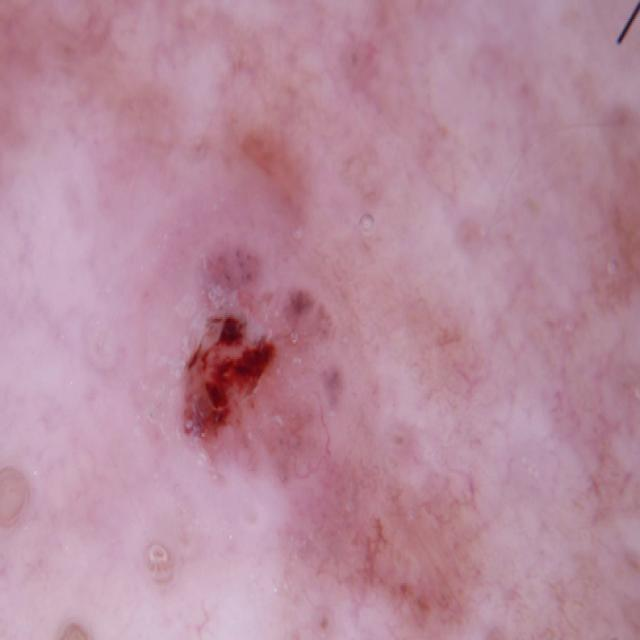Carcinoma: (142, 271, 317, 500)
